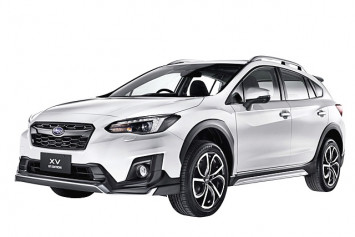pickup: (15, 55, 346, 218)
